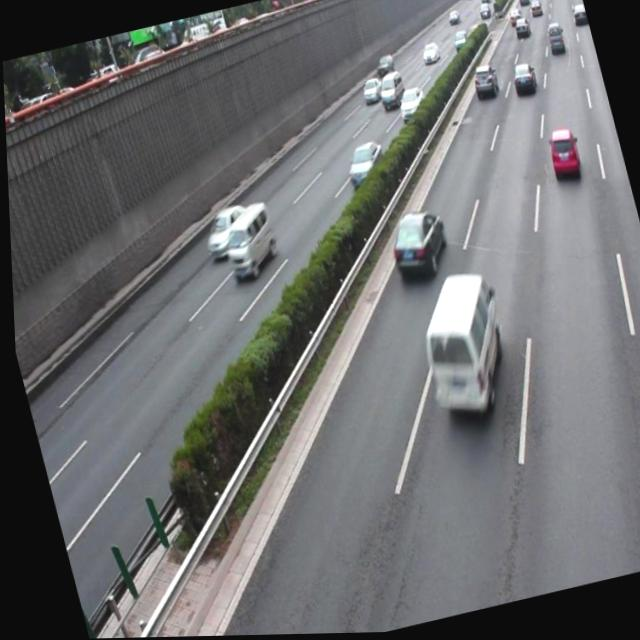car: (380, 205, 451, 280), (196, 202, 254, 261), (338, 138, 387, 193), (540, 127, 581, 186)
truck: (402, 269, 516, 424), (211, 199, 281, 281)
